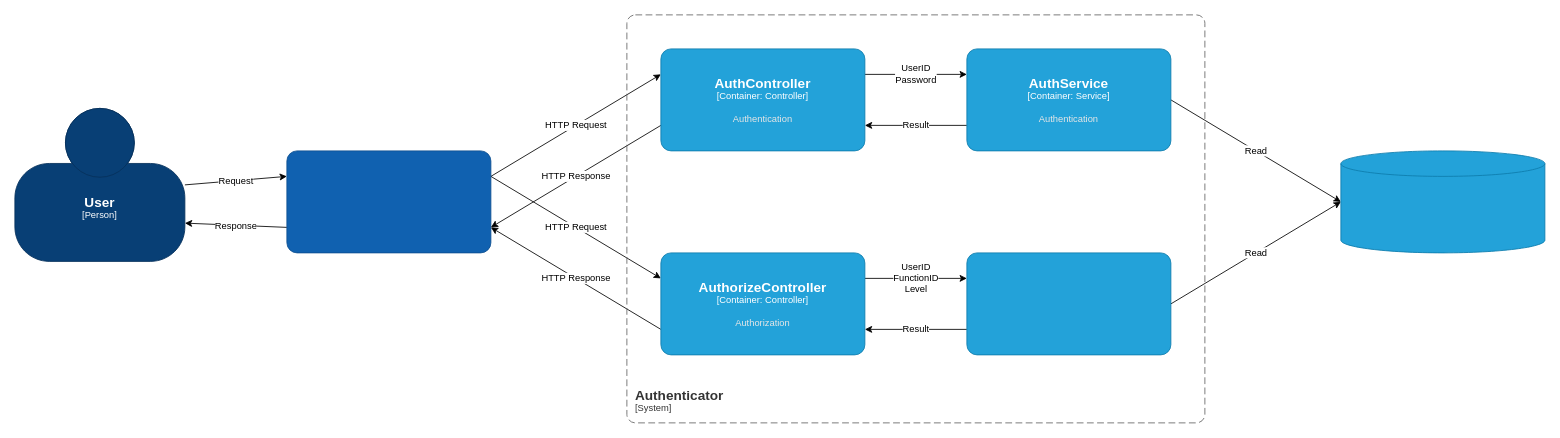
The diagram is 1560 pixels wide and 438 high, and some of its shapes have lost their labels. The centre of each missing label's shape, as x and y in pixels:
"AuthorizeService [Container: Service] Authorization" goes at (x=1068, y=303).
"DB [Container: DB]" goes at (x=1442, y=201).
"Other System [System]" goes at (x=388, y=201).
